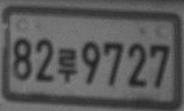2: (127, 42, 147, 87), (35, 38, 53, 81)
7: (149, 44, 170, 88), (103, 42, 123, 85)
8: (12, 38, 32, 81)
9: (80, 41, 100, 84)
루: (58, 47, 77, 83)
